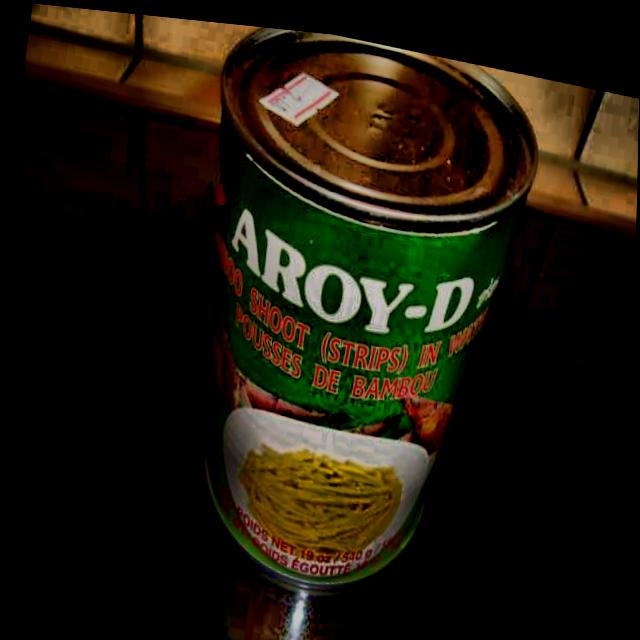Cans: (139, 12, 552, 640)
